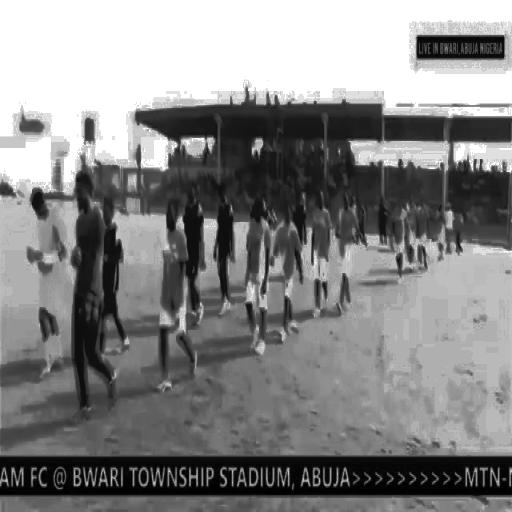keeper1: (70, 173, 107, 416)
keeper2: (24, 178, 65, 376)
team1: (158, 200, 196, 386), (248, 196, 271, 350), (276, 205, 298, 337), (407, 194, 434, 274), (314, 197, 330, 317), (340, 192, 356, 310), (394, 195, 407, 278)
team2: (102, 184, 130, 351), (183, 177, 205, 324), (216, 178, 234, 318), (292, 192, 306, 242), (378, 196, 390, 245)
